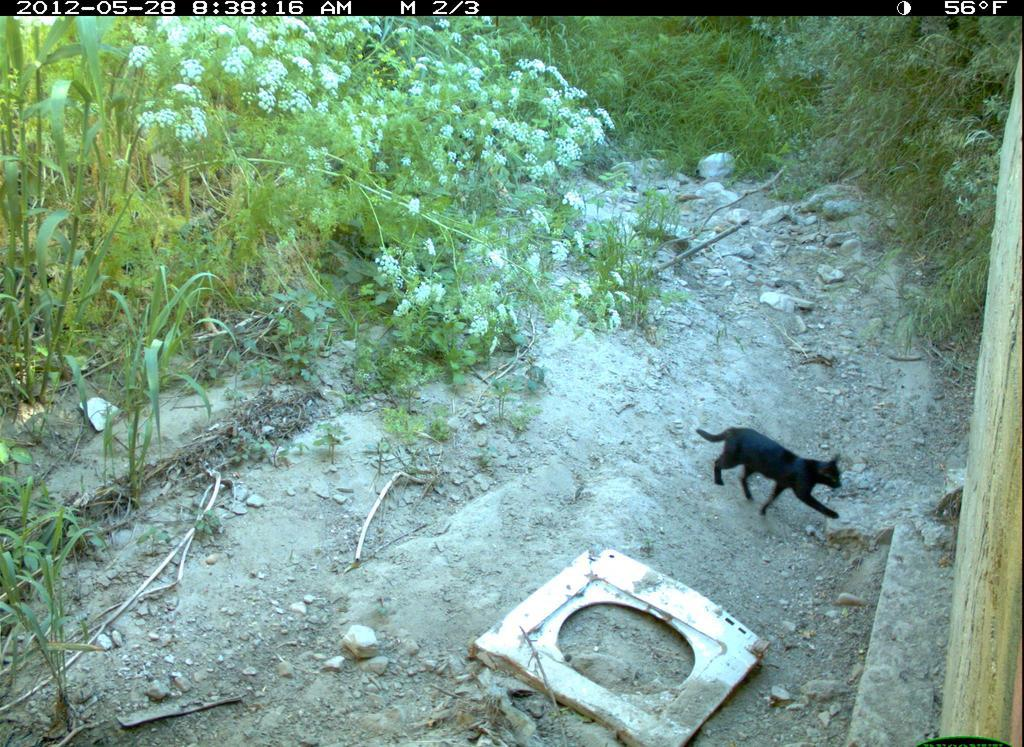cat: (693, 422, 854, 538)
